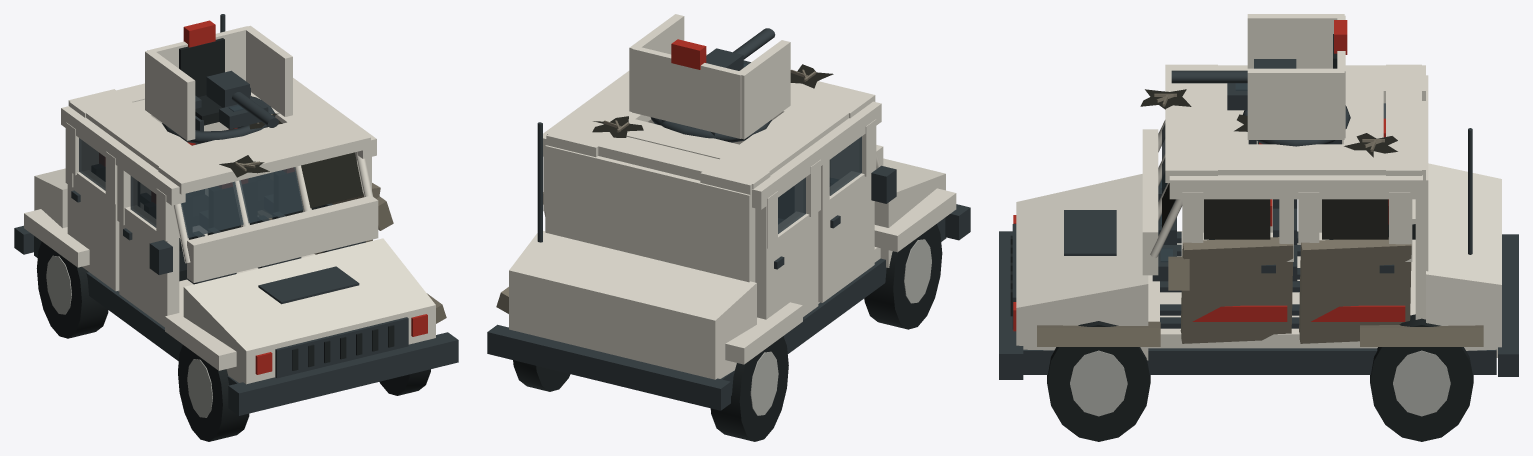
3 renders of one model, left to right at view 1: azimuth 30°, elevation 25°; view 2: azimuth 150°, elevation 25°; view 3: azimuth 270°, elevation 25°, orthographic. The views are drawn at different scales.
Visible parts, largest first — view 1: humvee-damaged-fleet-armor, humvee-damaged-fleet-machine, turret-fleet-armor, humvee-damaged-fleet-glass, crew-chair-gunner-painted, wheel--1--1.54-fleet-rubber, humvee-damaged-fleet-damage-charred, wheel--1-1.52-fleet-rubber, crew-chair-front-center-painted, barrel-fleet-machine, crew-chair-passenger-painted, wheel--1-1.52-fleet-edge (+9 smaller); view 2: humvee-damaged-fleet-armor, humvee-damaged-fleet-machine, turret-fleet-armor, wheel--1-1.52-fleet-rubber, wheel--1--1.54-fleet-rubber, humvee-damaged-fleet-glass, wheel--1-1.52-fleet-edge, wheel--1--1.54-fleet-edge, barrel-fleet-machine, wheel-1--1.54-fleet-rubber, humvee-damaged-fleet-damage-charred, crew-chair-gunner-painted (+2 smaller); view 3: humvee-damaged-fleet-armor, humvee-damaged-fleet-damage-metal, humvee-damaged-fleet-machine, turret-fleet-armor, humvee-damaged-fleet-damage-charred, wheel-1--1.54-fleet-rubber, wheel-1-1.52-fleet-rubber, wheel-1--1.54-fleet-edge, wheel-1-1.52-fleet-edge, humvee-damaged-fleet-red, barrel-fleet-machine, crew-chair-gunner-painted (+2 smaller).
Part boxes in pixels (bbox=[...]): humvee-damaged-fleet-armor: bbox=[24, 78, 435, 384]; humvee-damaged-fleet-machine: bbox=[14, 14, 458, 415]; turret-fleet-armor: bbox=[145, 25, 292, 140]; humvee-damaged-fleet-glass: bbox=[79, 138, 303, 238]; crew-chair-gunner-painted: bbox=[179, 20, 268, 131]; wheel--1--1.54-fleet-rubber: bbox=[36, 241, 108, 338]; humvee-damaged-fleet-damage-charred: bbox=[219, 113, 363, 207]; wheel--1-1.52-fleet-rubber: bbox=[178, 345, 249, 441]; crew-chair-front-center-painted: bbox=[207, 178, 300, 273]; barrel-fleet-machine: bbox=[206, 70, 278, 127]; crew-chair-passenger-painted: bbox=[272, 168, 365, 257]; wheel--1-1.52-fleet-edge: bbox=[187, 359, 212, 417]; humvee-damaged-fleet-armor: bbox=[509, 54, 956, 379]; humvee-damaged-fleet-machine: bbox=[487, 122, 970, 410]; turret-fleet-armor: bbox=[629, 14, 790, 139]; wheel--1-1.52-fleet-rubber: bbox=[864, 224, 942, 329]; wheel--1--1.54-fleet-rubber: bbox=[710, 336, 788, 441]; humvee-damaged-fleet-glass: bbox=[778, 136, 861, 233]; wheel--1-1.52-fleet-edge: bbox=[904, 239, 931, 303]; wheel--1--1.54-fleet-edge: bbox=[750, 351, 778, 415]; barrel-fleet-machine: bbox=[706, 28, 775, 70]; wheel-1--1.54-fleet-rubber: bbox=[513, 360, 570, 391]; humvee-damaged-fleet-damage-charred: bbox=[592, 64, 833, 137]; crew-chair-gunner-painted: bbox=[661, 39, 750, 135]; humvee-damaged-fleet-armor: bbox=[1016, 64, 1501, 360]; humvee-damaged-fleet-damage-metal: bbox=[1037, 93, 1483, 346]; humvee-damaged-fleet-machine: bbox=[999, 128, 1518, 379]; turret-fleet-armor: bbox=[1247, 14, 1345, 139]; humvee-damaged-fleet-damage-charred: bbox=[1140, 89, 1397, 239]; wheel-1--1.54-fleet-rubber: bbox=[1370, 314, 1473, 441]; wheel-1-1.52-fleet-rubber: bbox=[1047, 321, 1150, 441]; wheel-1--1.54-fleet-edge: bbox=[1393, 350, 1450, 416]; wheel-1-1.52-fleet-edge: bbox=[1070, 350, 1127, 416]; humvee-damaged-fleet-red: bbox=[1013, 215, 1405, 331]; barrel-fleet-machine: bbox=[1171, 59, 1296, 83]; crew-chair-gunner-painted: bbox=[1227, 20, 1347, 144].
Size of the model in its own units: 16.03 by 20.28 by 26.84.
